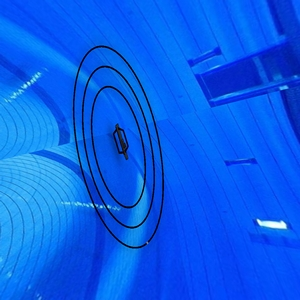circle: (69, 42, 172, 254)
submarine: (107, 120, 138, 169)
